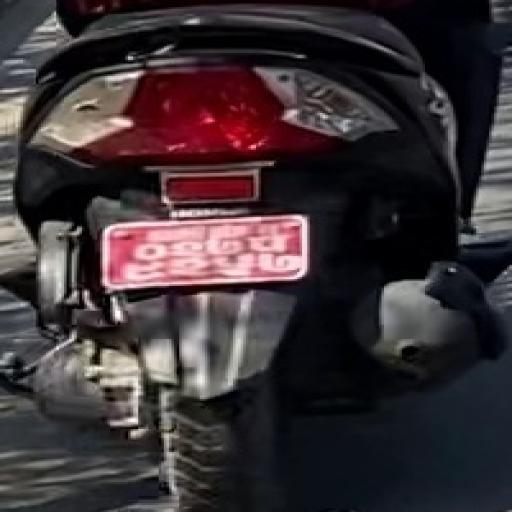license_plate: (98, 213, 310, 286)
